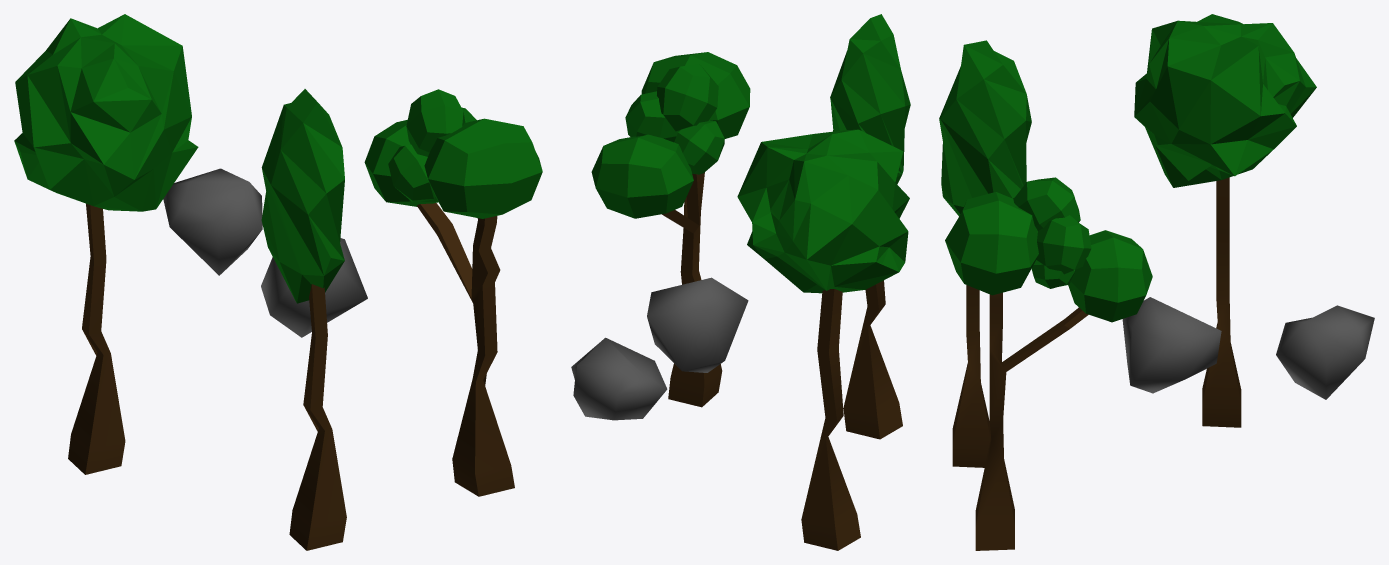
Rendered from lowPoly_rock&tree.fbx.
3 renders of one model, left to right at view 1: azimuth 30°, elevation 25°; view 2: azimuth 150°, elevation 25°; view 3: azimuth 270°, elevation 25°, orthographic. The views are drawn at different scales.
Parts seen in each view (by area): view 1: GeoSphere001, GeoSphere002, Box004, Box005, Box001, Box002, GeoSphere004, GeoSphere003, Box006, Box003, Box008; view 2: GeoSphere001, GeoSphere002, Box001, GeoSphere003, Box003, GeoSphere004, Box002, Box004, Box005, Box006, Box008, Box007; view 3: GeoSphere001, GeoSphere002, Box005, Box004, GeoSphere003, GeoSphere004, Box003, Box001, Box002, Box007, Box006, Box009.
Part boxes in pixels (<box>): GeoSphere001: <box>14,14,198,211</box>; GeoSphere002: <box>261,89,344,303</box>; Box004: <box>417,203,514,496</box>; Box005: <box>424,118,542,218</box>; Box001: <box>68,203,125,474</box>; Box002: <box>289,284,346,550</box>; GeoSphere004: <box>163,168,262,275</box>; GeoSphere003: <box>261,238,367,337</box>; Box006: <box>406,89,465,156</box>; Box003: <box>364,120,438,206</box>; Box008: <box>388,144,435,202</box>; GeoSphere001: <box>737,129,909,293</box>; GeoSphere002: <box>830,14,910,184</box>; Box001: <box>801,289,860,550</box>; GeoSphere003: <box>647,277,748,372</box>; Box003: <box>591,134,693,218</box>; GeoSphere004: <box>571,337,667,420</box>; Box002: <box>843,280,902,439</box>; Box004: <box>662,172,722,407</box>; Box005: <box>641,52,750,138</box>; Box006: <box>657,63,718,131</box>; Box008: <box>674,120,724,174</box>; Box007: <box>625,91,679,142</box>; GeoSphere001: <box>1134,14,1316,187</box>; GeoSphere002: <box>939,40,1031,216</box>; Box005: <box>945,192,1038,295</box>; Box004: <box>975,292,1088,550</box>; GeoSphere003: <box>1122,297,1221,393</box>; GeoSphere004: <box>1276,305,1374,399</box>; Box003: <box>1068,230,1152,322</box>; Box001: <box>1202,177,1241,427</box>; Box002: <box>952,285,990,467</box>; Box007: <box>1036,215,1091,274</box>; Box006: <box>1013,177,1080,230</box>; Box009: <box>1031,260,1075,288</box>.
Size of the model in its own units: 81.4 by 87.58 by 82.91.
